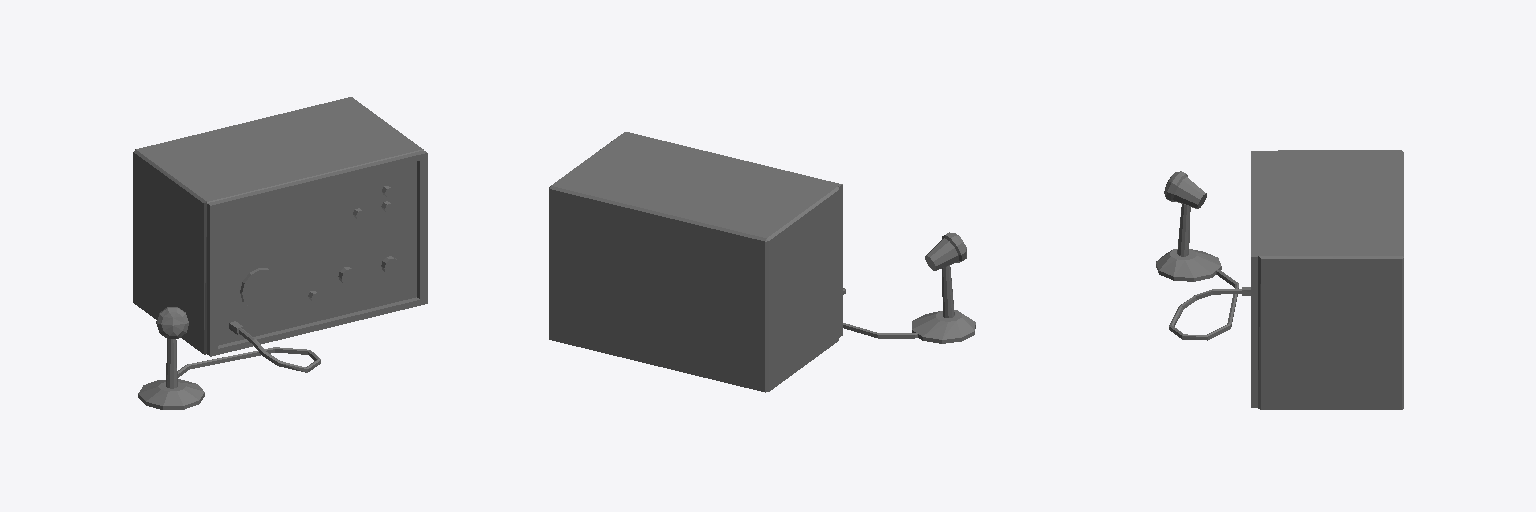
The model's file is Radio.obj.
3 renders of one model, left to right at view 1: azimuth 30°, elevation 25°; view 2: azimuth 150°, elevation 25°; view 3: azimuth 270°, elevation 25°, orthographic.
Visible parts, largest first — view 1: thinger1 group35; view 2: thinger1 group35; view 3: thinger1 group35.
Boxes of the visible parts, x1=… form: thinger1 group35: x1=133, y1=97, x2=427, y2=409; thinger1 group35: x1=549, y1=132, x2=975, y2=392; thinger1 group35: x1=1156, y1=150, x2=1403, y2=409.
Bounding box in the file's own units: 17.42 × 8.04 × 11.82.